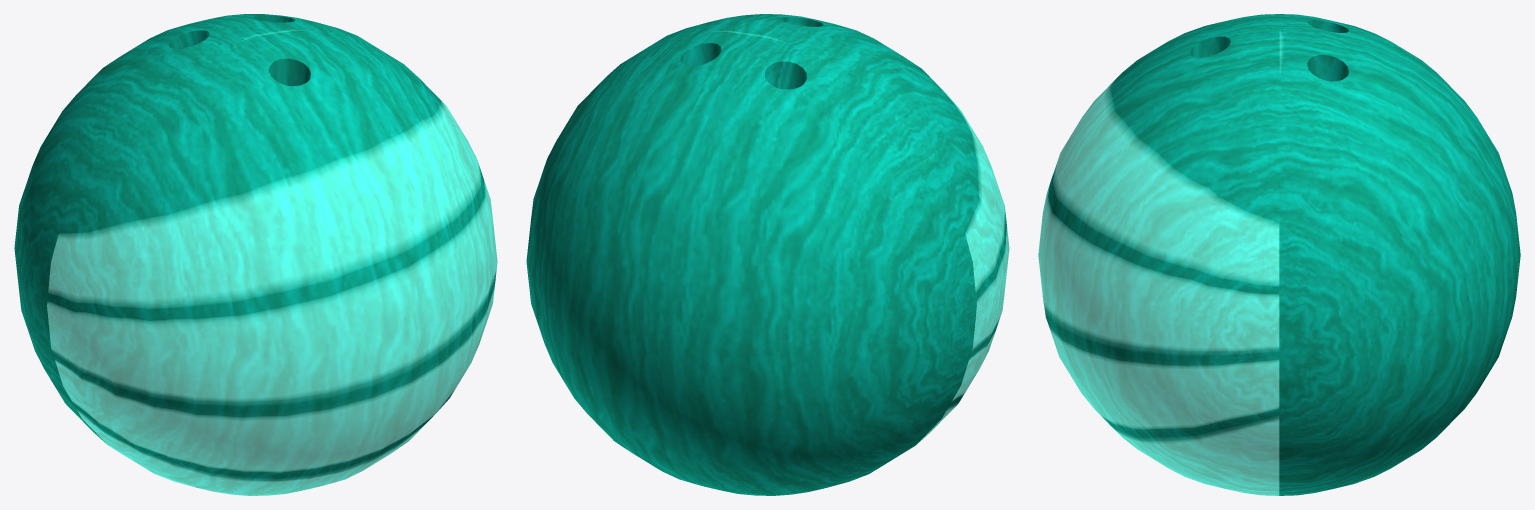
The model's file is SM_Ball_003.fbx.
3 views of the same model, side by side, from view 1: azimuth 30°, elevation 25°; view 2: azimuth 150°, elevation 25°; view 3: azimuth 270°, elevation 25° (orthographic).
Visible parts, largest first — view 1: SM_Ball_003; view 2: SM_Ball_003; view 3: SM_Ball_003.
Part boxes in pixels (x1,y1,x2,y2): SM_Ball_003: (14, 14, 497, 495); SM_Ball_003: (526, 14, 1009, 495); SM_Ball_003: (1038, 14, 1520, 495).
Size of the model in its own units: 20 by 20 by 20.
1 material, 1 textured.
